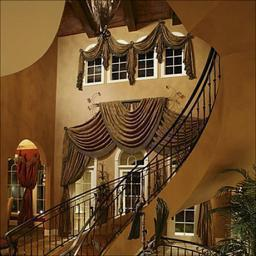Escaleras: (6, 46, 238, 251)
